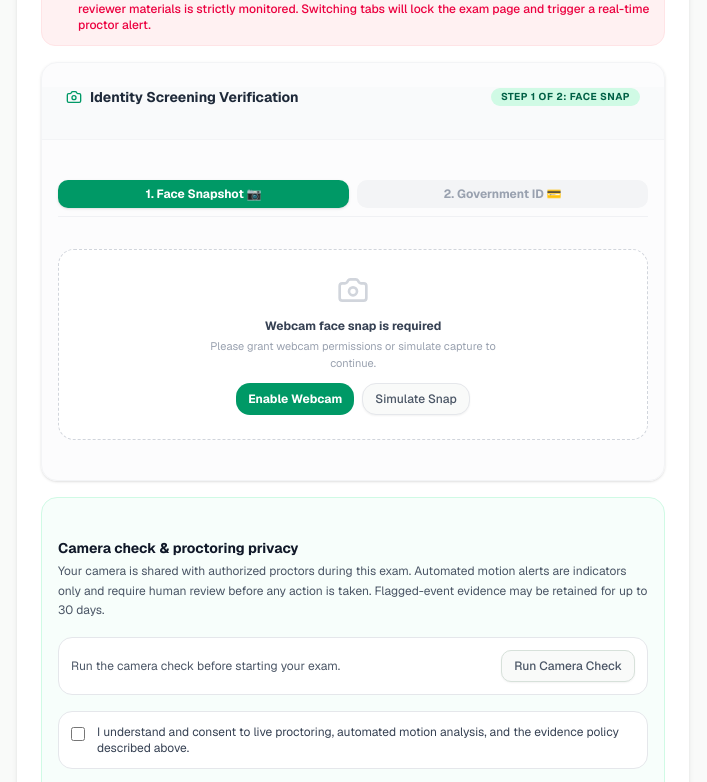
it: shows the missing-device message and keeps a final exam locked after a failed check
The width and height of the screenshot is (707, 782).
(page scrolled)
Click the button "Enable Webcam" at (295, 399), box x1=236 y1=383 x2=354 y2=415
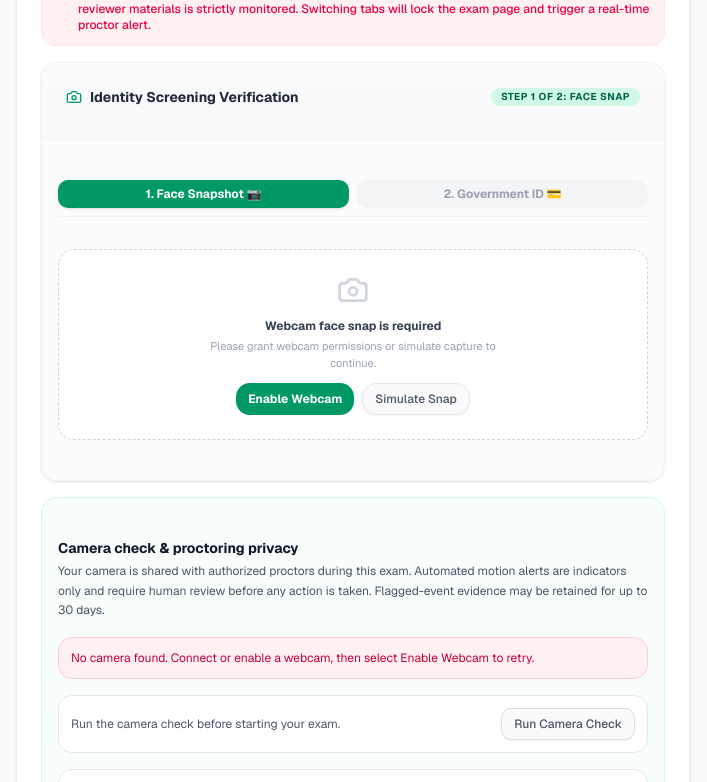
Now the message shows "No camera found", box x1=71 y1=650 x2=534 y2=666
Click the button "Run Camera Check" at (568, 724), box x1=501 y1=708 x2=635 y2=740
(page scrolled)
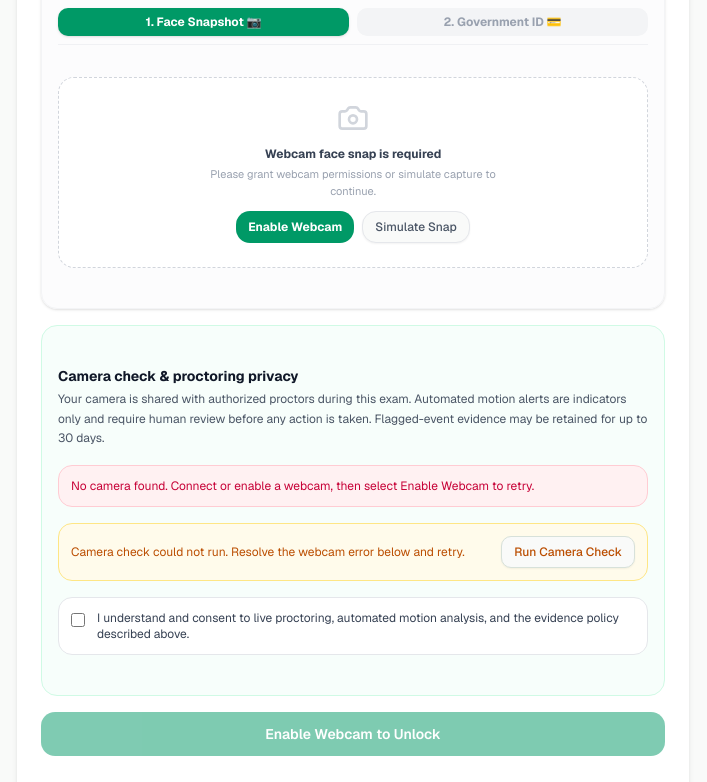
Expected: the button "Enable Webcam to Unlock" is disabled, x1=41 y1=712 x2=665 y2=756
Now the text "Camera check could not run" is shown, box x1=71 y1=544 x2=465 y2=560
